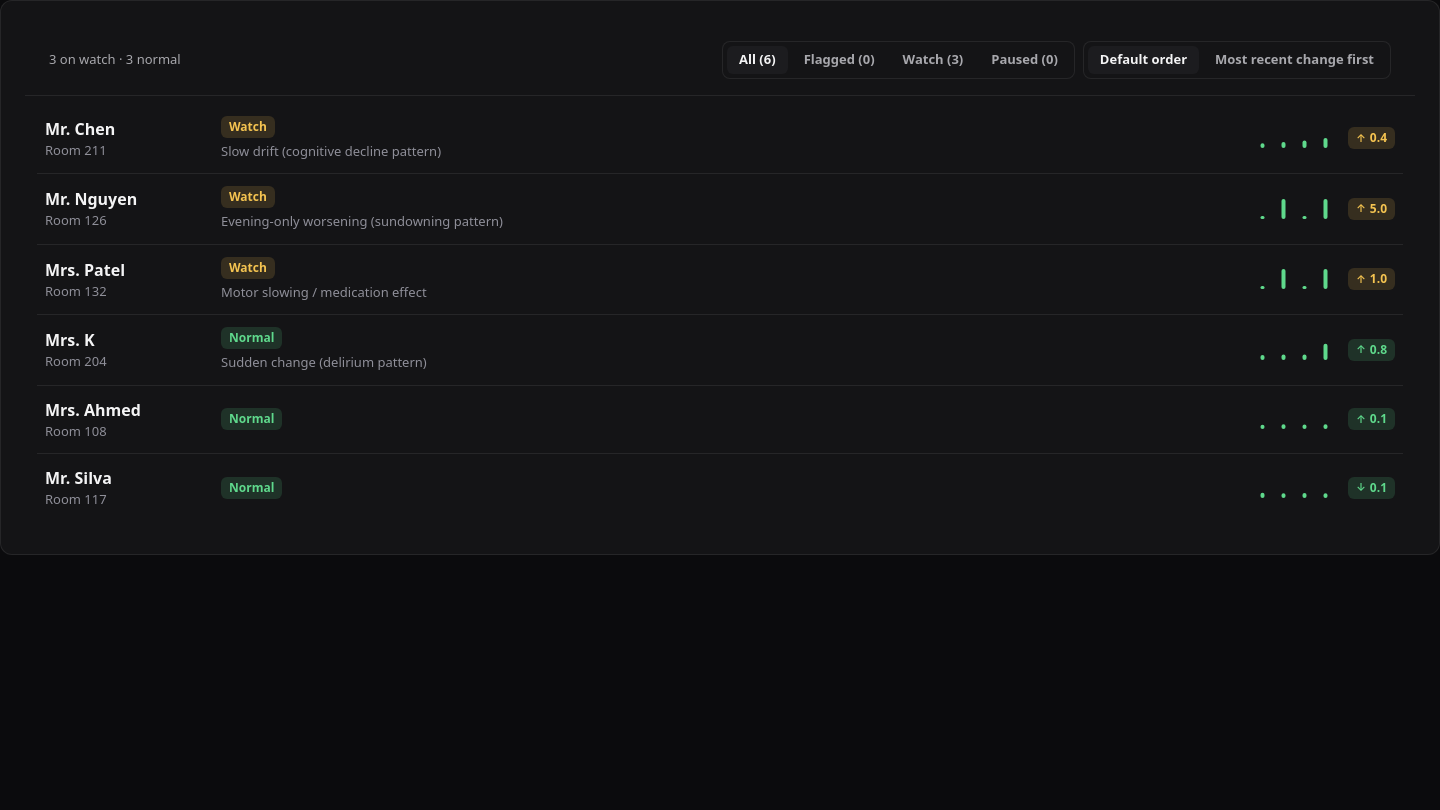
Test: UnitOverview › shows "No residents flagged for review." when the flagged filter is empty
The image size is (1440, 810).
expect the number of list items is 6: met, box [37,104,1403,173]; [37,173,1403,244]; [37,244,1403,314]; [37,314,1403,384]; [37,384,1403,453]; [37,453,1403,522]
Click the button "Flagged (0)" at (839, 60), box [792,46,887,74]
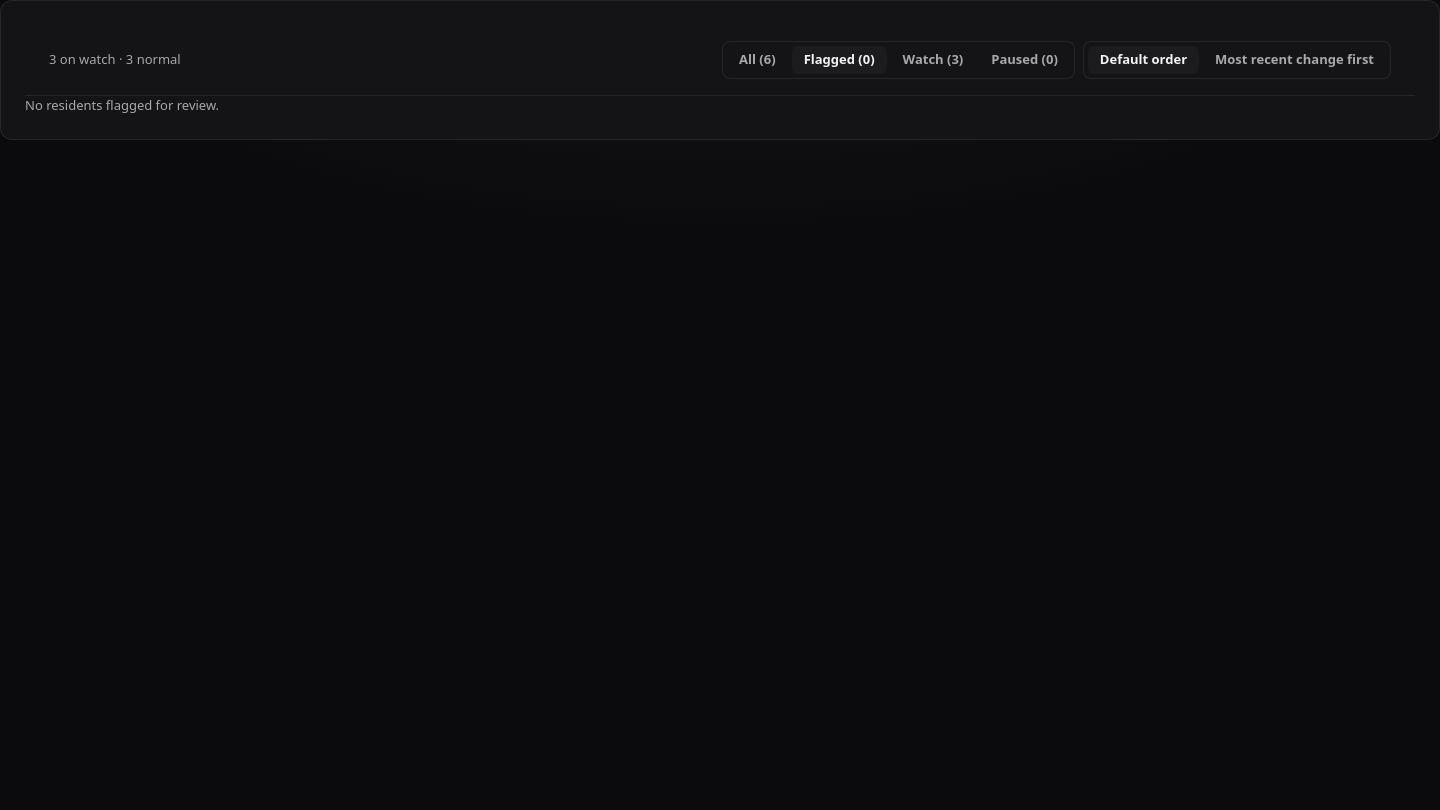
expect the text "No residents flagged for review." is shown: met, box [25,96,219,114]
expect the list is gone: met
